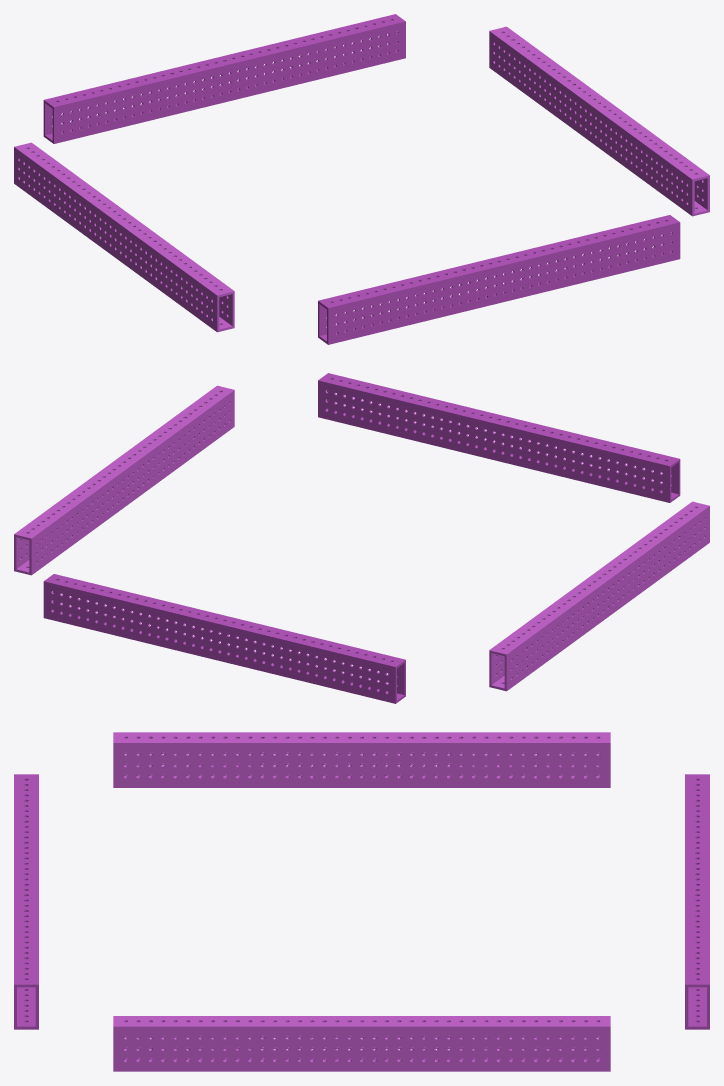
Rendered from Frames.dae.
The picture shows the model from 3 angles, top to bottom: view 1: azimuth 30°, elevation 25°; view 2: azimuth 150°, elevation 25°; view 3: azimuth 270°, elevation 25°; orthographic projection. The views are drawn at different scales.
Visible parts, largest first — view 1: Object.770; view 2: Object.770; view 3: Object.770.
Part boxes in pixels (left/top/right/bottom): Object.770: left=14, top=14, right=709, bottom=344; Object.770: left=14, top=373, right=709, bottom=703; Object.770: left=14, top=732, right=709, bottom=1071.
Bounding box in the file's own units: 0.7112 × 0.7112 × 0.0508.
